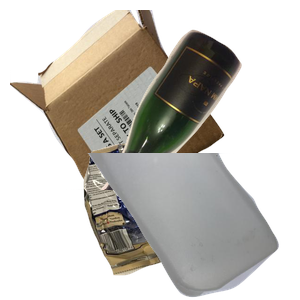cardboard: (10, 10, 227, 190)
glass: (87, 27, 300, 207)
plastic: (84, 153, 300, 300)
trash: (81, 137, 280, 300)
